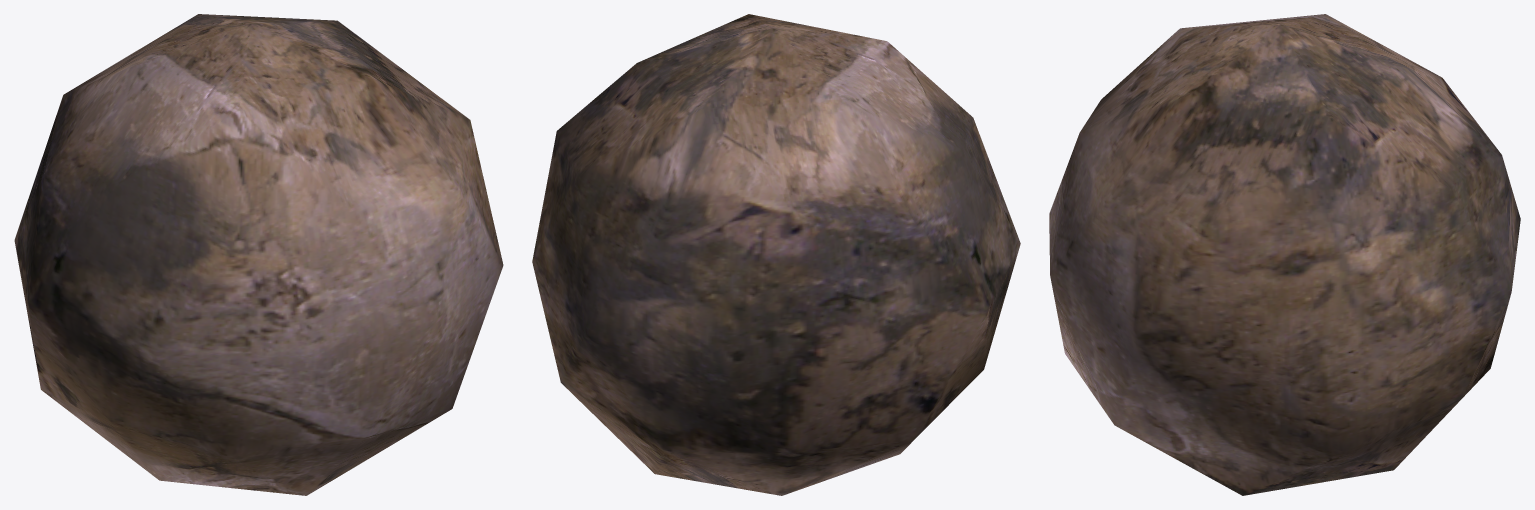
File: Stone.fbx
3 renders of one model, left to right at view 1: azimuth 30°, elevation 25°; view 2: azimuth 150°, elevation 25°; view 3: azimuth 270°, elevation 25°, orthographic.
Visible parts, largest first — view 1: Empty_Mesh; view 2: Empty_Mesh; view 3: Empty_Mesh.
Boxes of the visible parts, x1=… form: Empty_Mesh: x1=14, y1=14, x2=503, y2=495; Empty_Mesh: x1=532, y1=14, x2=1020, y2=495; Empty_Mesh: x1=1049, y1=14, x2=1520, y2=495.
Size of the model in its own units: 0.5174 by 0.5078 by 0.482.
